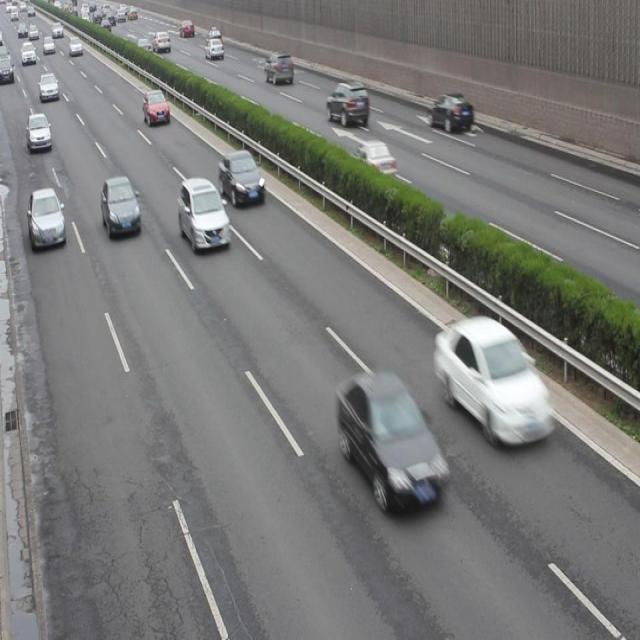car: (335, 369, 449, 512), (434, 314, 554, 448), (177, 175, 230, 252), (218, 149, 266, 209), (101, 176, 142, 240), (28, 187, 66, 252), (325, 79, 369, 127), (350, 140, 396, 184), (428, 92, 472, 134), (142, 87, 170, 126), (264, 50, 294, 86), (27, 113, 52, 152)
